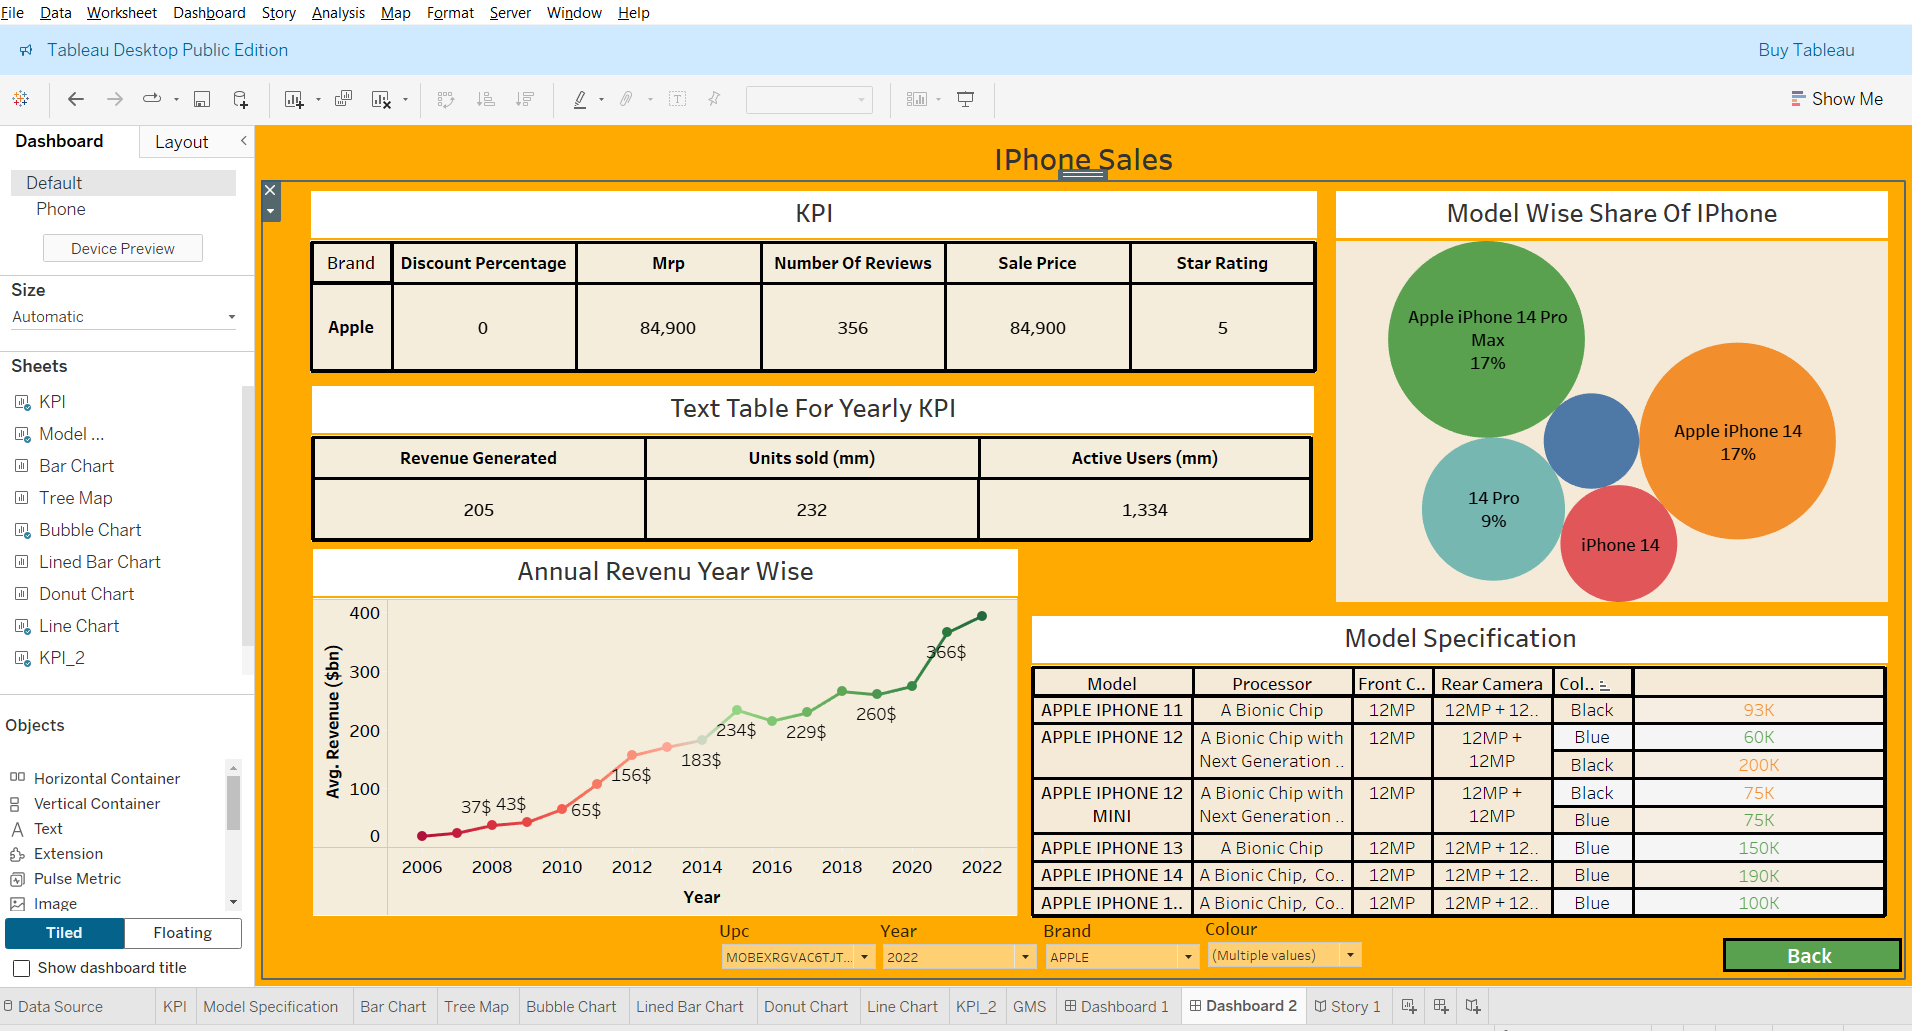

What the dashboard file says about the page in this screenshot:
{"tool":"tableau","page":{"name":"Dashboard 2","canvas":[1000,1000],"units":"permille","ordinal":1},"visuals":[{"type":"title","box":[4.8,9.3,990.3,56.9]},{"type":"worksheet","title":"KPI","mark":"Automatic","rows":["Brand"],"box":[33.2,76.7,607.7,211.4]},{"type":"worksheet","title":"Bubble Chart","mark":"Circle","box":[652.4,76.7,333.1,477.4]},{"type":"worksheet","title":"KPI_2","mark":"Automatic","box":[33.8,303.1,605.3,181.2]},{"type":"worksheet","title":"Line Chart","mark":"Automatic","rows":["Revenue ($bn)"],"cols":["Year","Year"],"box":[35,492.4,425.5,426.2]},{"type":"worksheet","title":"Model Specification","mark":"Automatic","rows":["model","processor","front_camera","rear_camera","colour"],"box":[468.3,570.3,517.2,350.8]},{"type":"filter","title":"Model Specification","param":"[federated.094aaop08sx3b114n80pt18ewucl].[none:colour:nk]","box":[573.3,918.7,96.6,61.6]},{"type":"filter","title":"KPI","param":"[federated.1xz6aj21gt80dx124duni1fgpv4u].[none:Upc:nk]","box":[280,921,96.6,61.6]},{"type":"filter","title":"KPI_2","param":"[federated.0hzusc70w1qvjl0zz3s5w15w62j5].[none:Year:ok]","box":[377.2,921,96.6,61.6]},{"type":"filter","title":"Model Specification","param":"[federated.094aaop08sx3b114n80pt18ewucl].[none:brand:nk]","box":[475.6,921,96.6,61.6]},{"type":"dashboard-object","box":[885.9,944.2,108,39.5]}]}

Visuals, with their boxes on the dashboard's canvas, which has no fixed pixel size, in thousandths of its width and height (x1, y1, x2, y2). These are canvas units, not pixel positions in the 1912x1031 screenshot, which may show the page scaled, cropped or inside an application window:
title: (5,9,995,66)
"KPI" worksheet: (33,77,641,288)
"Bubble Chart" worksheet (Circle marks): (652,77,986,554)
"KPI_2" worksheet: (34,303,639,484)
"Line Chart" worksheet: (35,492,460,919)
"Model Specification" worksheet: (468,570,986,921)
"Model Specification" filter: (573,919,670,980)
"KPI" filter: (280,921,377,983)
"KPI_2" filter: (377,921,474,983)
"Model Specification" filter: (476,921,572,983)
dashboard-object: (886,944,994,984)
